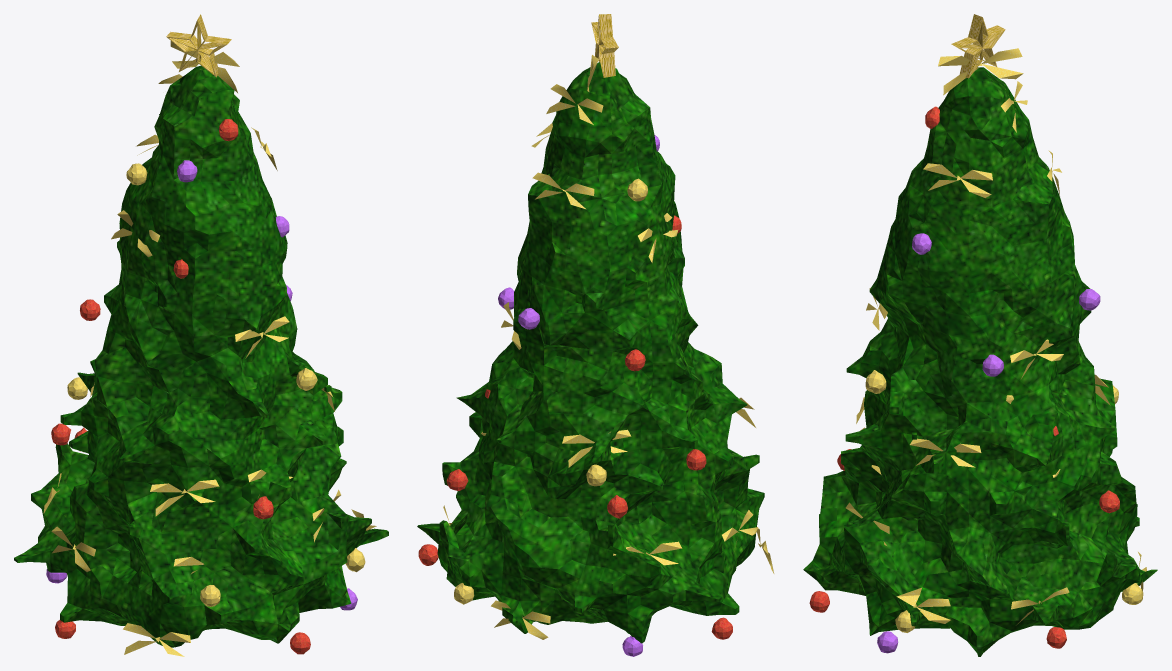
Rendered from MerryCM.glb.
The picture shows the model from 3 angles, left to right: view 1: azimuth 30°, elevation 25°; view 2: azimuth 150°, elevation 25°; view 3: azimuth 270°, elevation 25°; orthographic projection.
Parts seen in each view (by area): view 1: MainBuilding; view 2: MainBuilding; view 3: MainBuilding.
Boxes of the visible parts, x1,y1,x2,y2 form: MainBuilding: (14,14,388,656); MainBuilding: (417,14,774,656); MainBuilding: (803,14,1157,656).
Bounding box in the file's own units: 1.33 × 2.46 × 1.32.
1 material, 1 textured.
